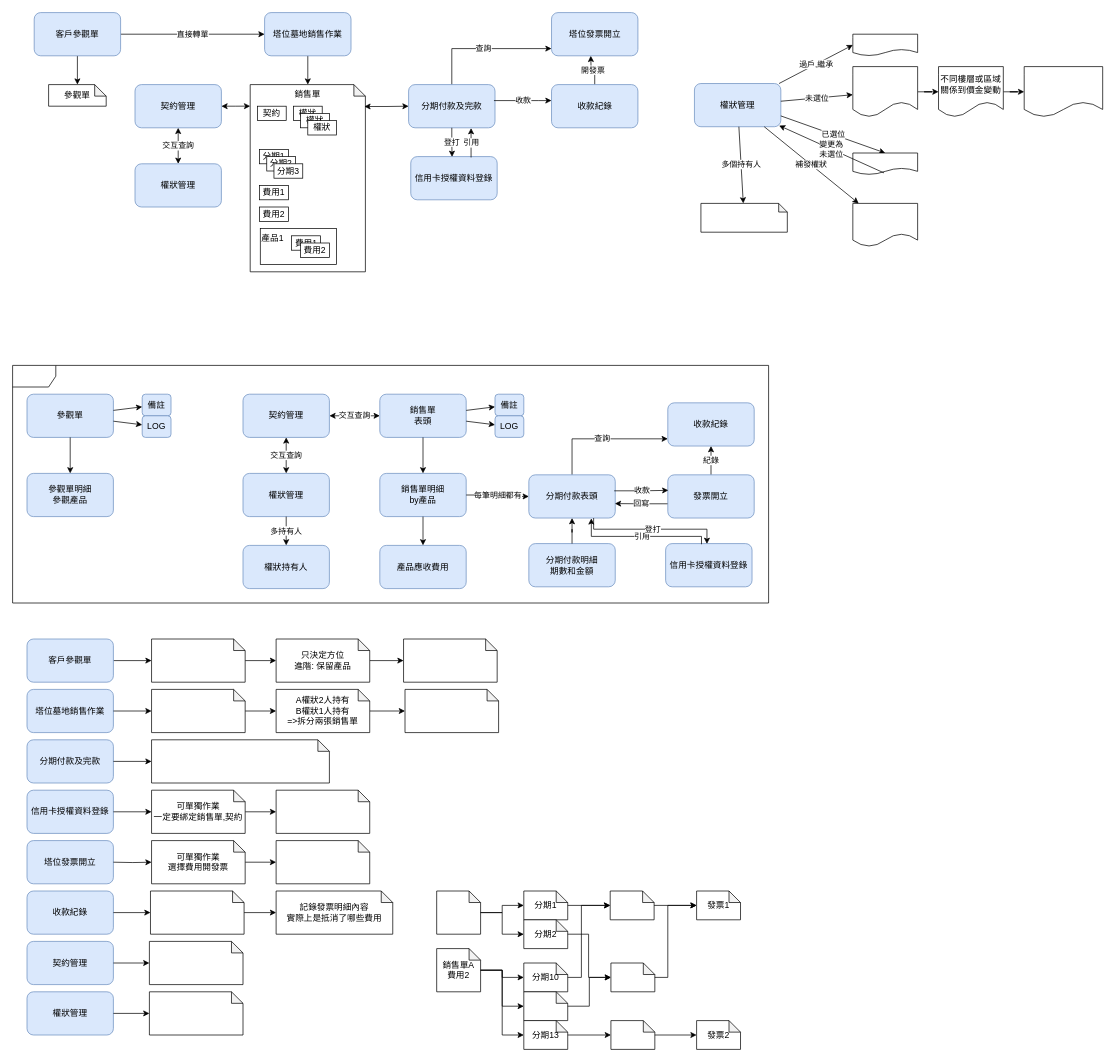
The diagram is 1115 pixels wide and 1062 high, and some of its shapes have lost their labels. The shapes that lost their labels are listed below. From the top down, each one's centre as x and y in pixels, then its label:
At (885,44): "權狀轉移持有人".
At (885,91): "權狀可換 同樓層區域 不同位".
At (1063,91): "價金變動計入契約".
At (885,163): "取消選位".
At (743,217): "一張權狀可多人共同持有".
At (885,225): "補發權狀 作費舊編號 給予新編號".
At (390,484): "Table".
At (198,660): "客戶可以只留基本資料 立即建立客戶檔案".
At (450,660): "確定購買直接轉銷售單".
At (198,711): "一張銷售單 一張契約 多張權狀".
At (451,711): "選定專案後, 契約編號依然可更改".
At (240,761): "1. 輸入期數自動帶出分期明細 2. 可單一新增分期明細 3. 分期明細的名稱可更改 4. 批次轉換尚未繳款的分期明細繳費方式".
At (322,811): "未綁定: 待用".
At (322,862): "銷售單一定有發票".
At (197,912): "新增時 一定要綁定銷售單,契約".
At (458,912): "銷售單A 費用1".
At (631,905): "收款1".
At (196,963): "一張契約 多張權狀".
At (632,977): "收款2".
At (196,1013): "可多人分別持有一張權狀".
At (545,1006): "分期11".
At (632,1034): "收款3".
